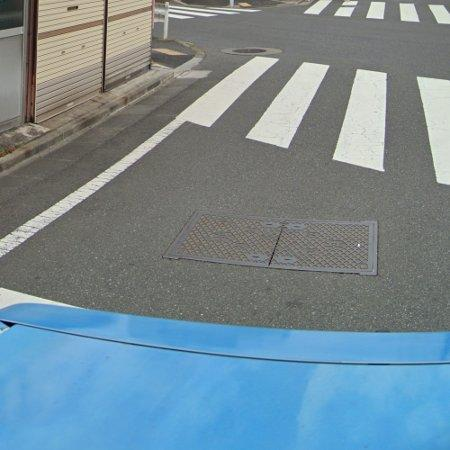crosswalks: (175, 54, 450, 188)
